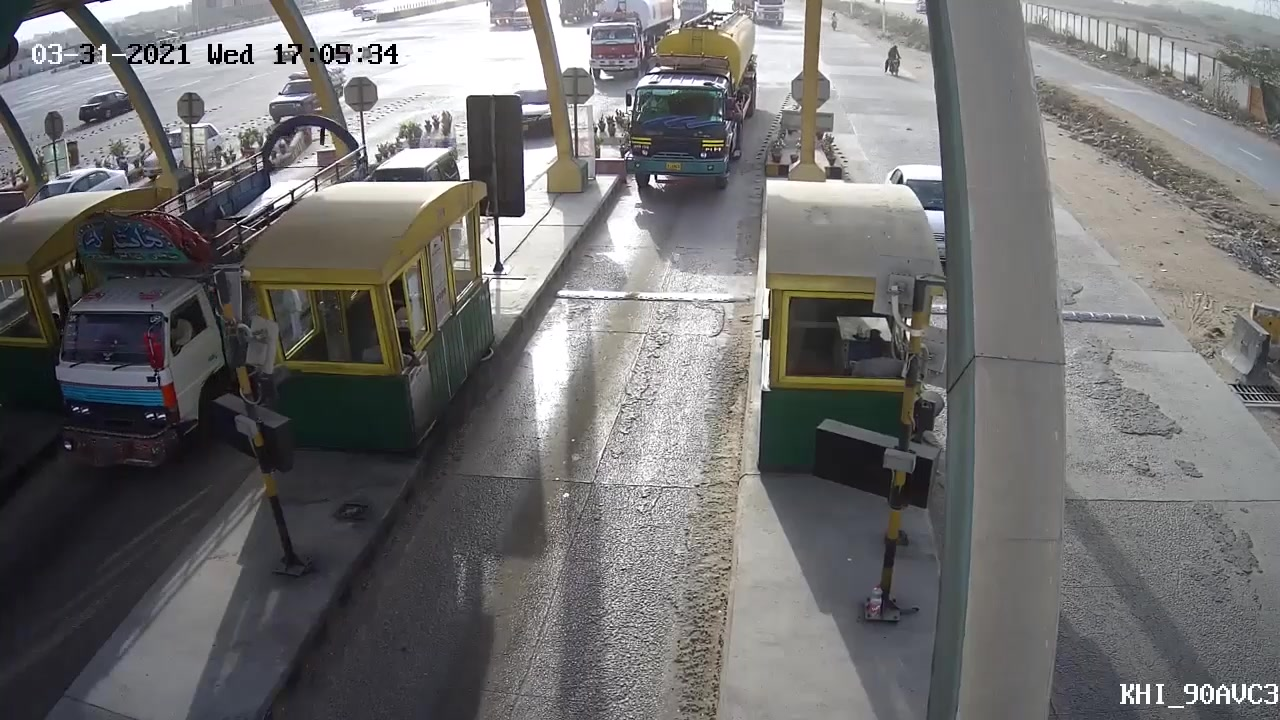F6: (616, 11, 763, 205)
